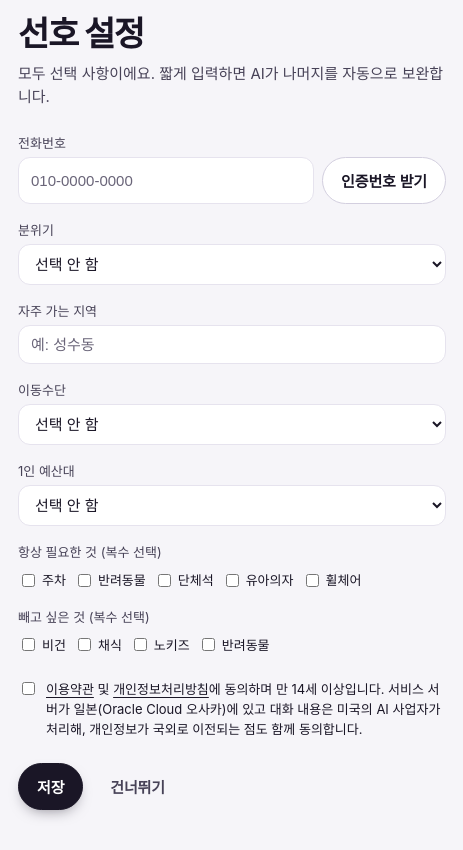
it: 온보딩 › 인증 전에는 가입하지 않는다
Step 1. Type "010-1234-5678" into the field with placeholder "010-0000-0000" → (166, 180), box [18, 157, 314, 204]
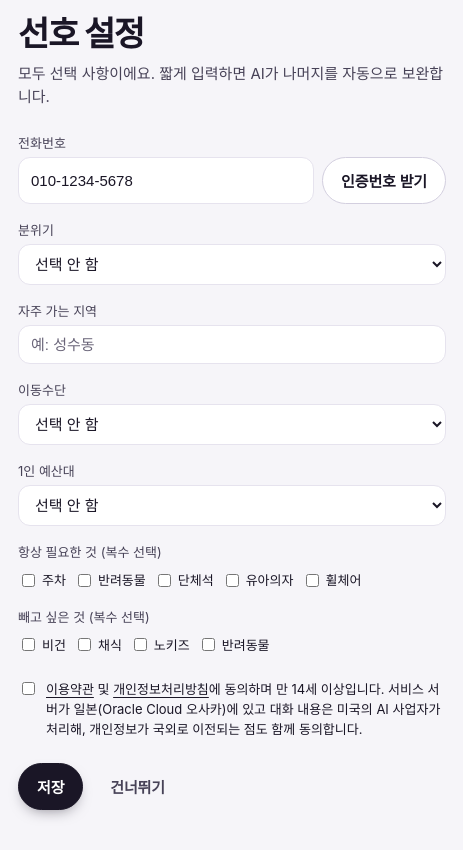
Step 2. Click the button "저장" → (51, 787), box [18, 763, 83, 810]
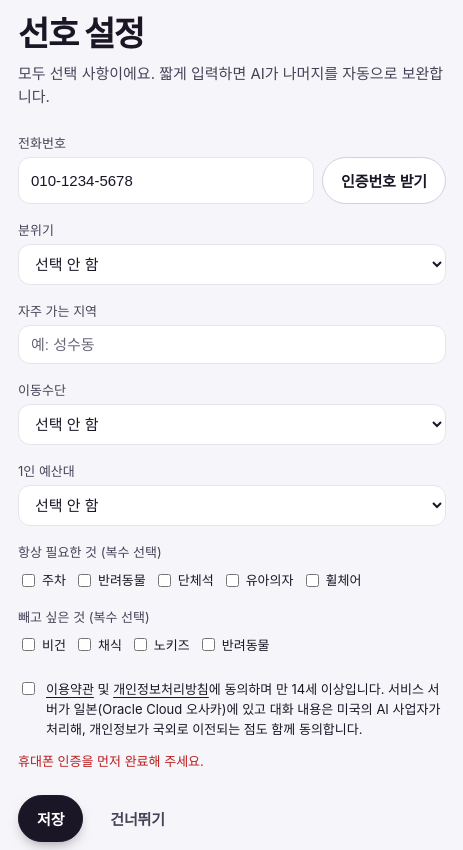
Expected: the message "휴대폰 인증을 먼저 완료해 주세요." is shown, [18, 753, 204, 769]
